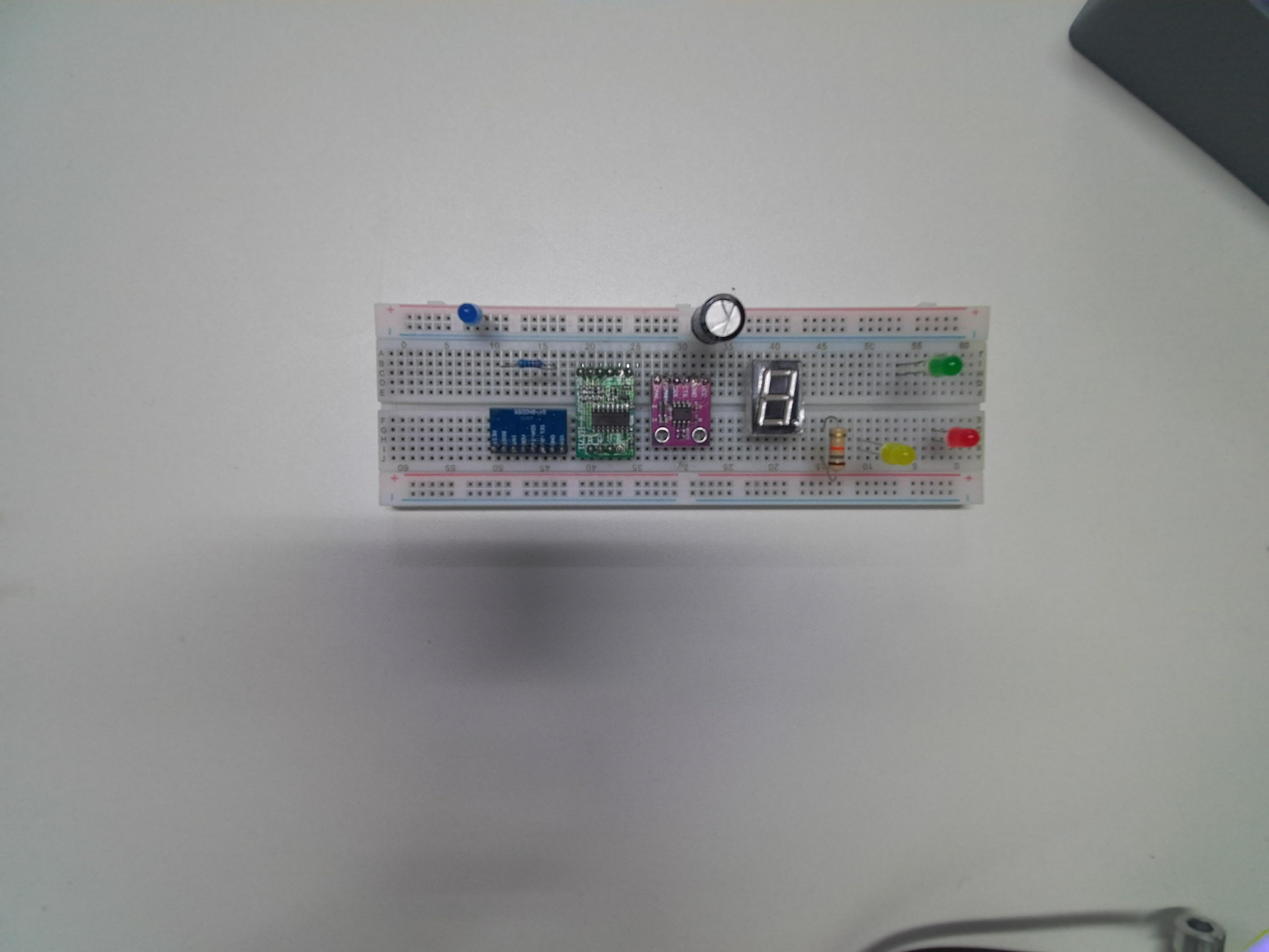base: (372, 294, 991, 518)
blue-board: (487, 407, 568, 460)
blue-led: (456, 302, 485, 332)
capacitor: (689, 291, 745, 347)
digit-board: (748, 357, 804, 440)
green-board: (572, 364, 640, 462)
green-led: (928, 354, 966, 379)
purple-board: (648, 372, 714, 451)
red-led: (946, 426, 981, 449)
resistor-big: (826, 426, 846, 470)
resistor-small: (514, 356, 546, 369)
yellow-led: (881, 442, 915, 467)
